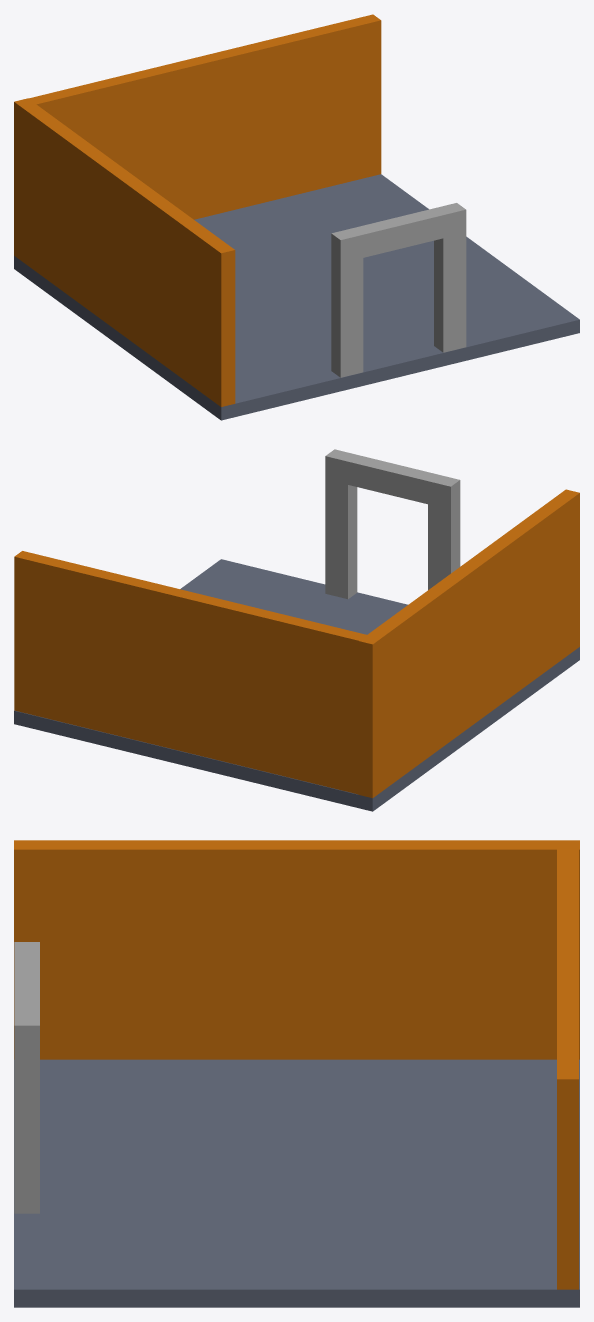
Rendered from menu_room_test.fbx.
3 views of the same model, one above another, from view 1: azimuth 30°, elevation 25°; view 2: azimuth 150°, elevation 25°; view 3: azimuth 270°, elevation 25° (orthographic). The views are drawn at different scales.
Visible parts, largest first — view 1: floor, wall_east5, wall_east, door_west1; view 2: wall_east5, wall_east, floor, door_west1; view 3: floor, wall_east, wall_east5, door_west1.
Part boxes in pixels (x1,y1,x2,y2): floor: (14,174,579,420); wall_east5: (28,14,381,219); wall_east: (14,98,235,406); door_west1: (331,203,466,377); wall_east5: (14,551,366,794); wall_east: (358,489,579,798); floor: (14,559,579,811); door_west1: (325,449,460,599); floor: (14,1059,579,1307); wall_east: (14,840,579,1059); wall_east5: (557,849,578,1289); door_west1: (14,942,39,1213).
Size of the model in its own units: 2800 by 1247 by 2800.
